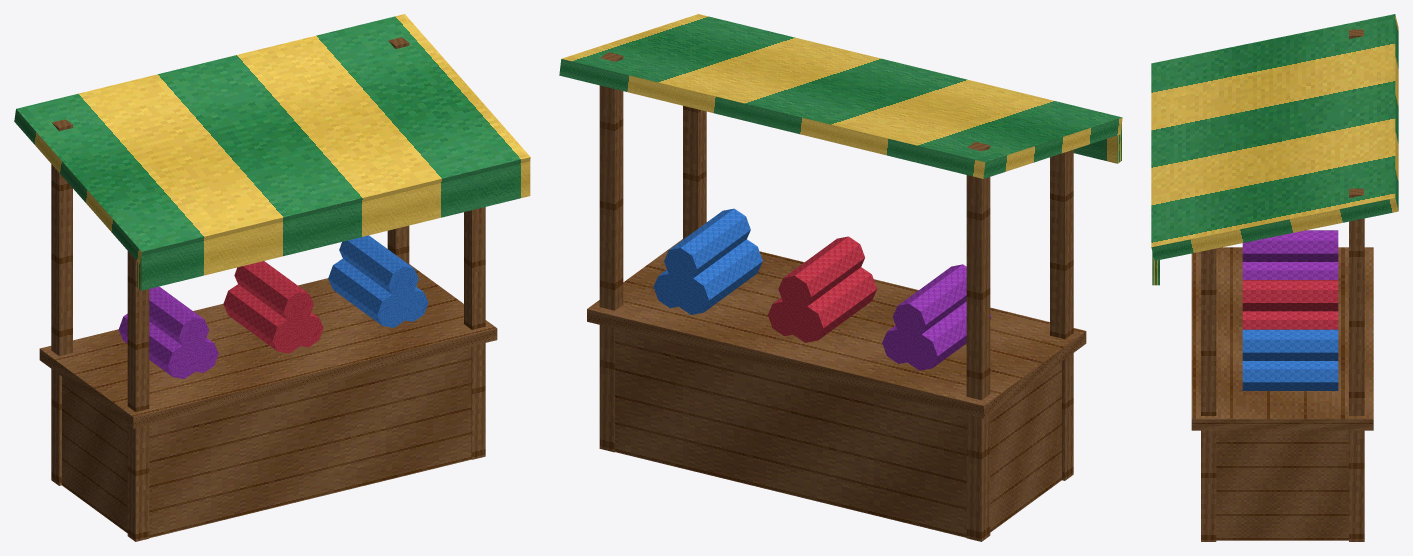
File: barraca_de_tecidos.glb
3 views of the same model, side by side, from view 1: azimuth 30°, elevation 25°; view 2: azimuth 150°, elevation 25°; view 3: azimuth 270°, elevation 25° (orthographic). The views are drawn at different scales.
Parts seen in each view (by area): view 1: barraca_de_tecidos; view 2: barraca_de_tecidos; view 3: barraca_de_tecidos.
Boxes of the visible parts, x1,y1,x2,y2 form: barraca_de_tecidos: [14, 14, 530, 541]; barraca_de_tecidos: [559, 14, 1122, 541]; barraca_de_tecidos: [1151, 14, 1398, 541].
Size of the model in its own units: 2.82 by 2.53 by 1.6.
Materials: 1 (1 with a texture image).
